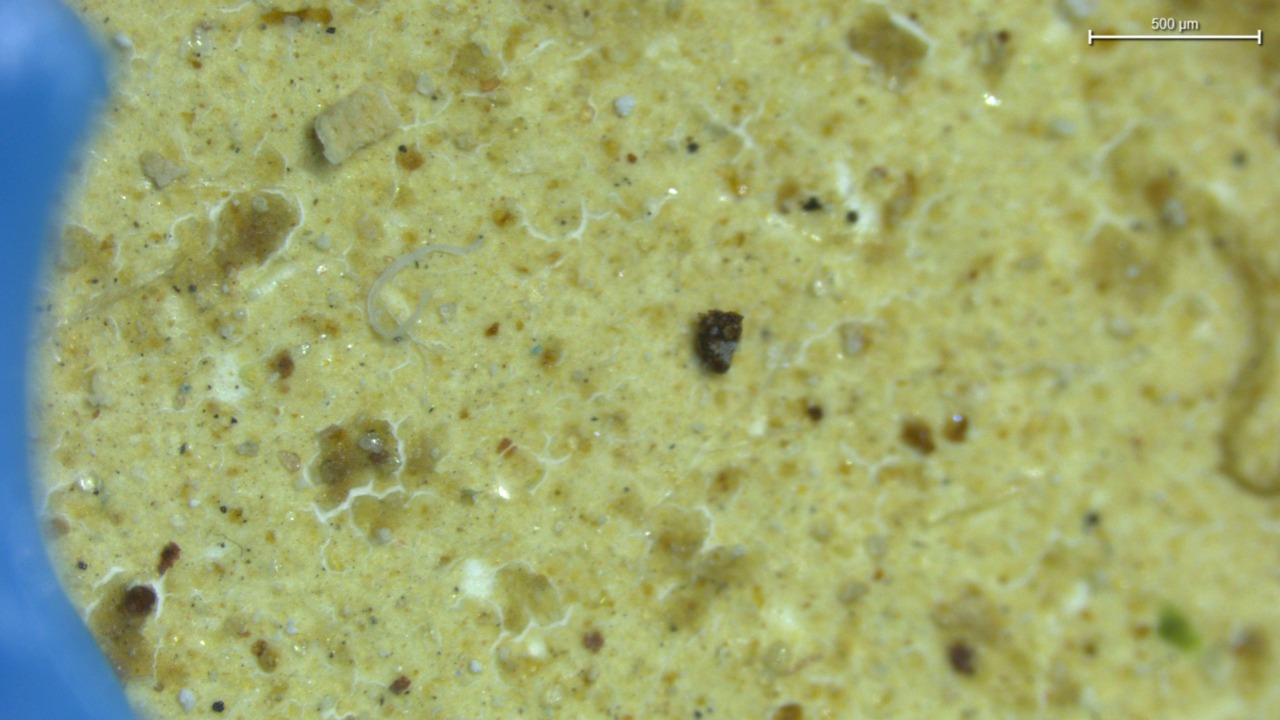microplastic_fragment: (315, 84, 401, 164), (140, 153, 187, 190), (614, 95, 636, 116)
